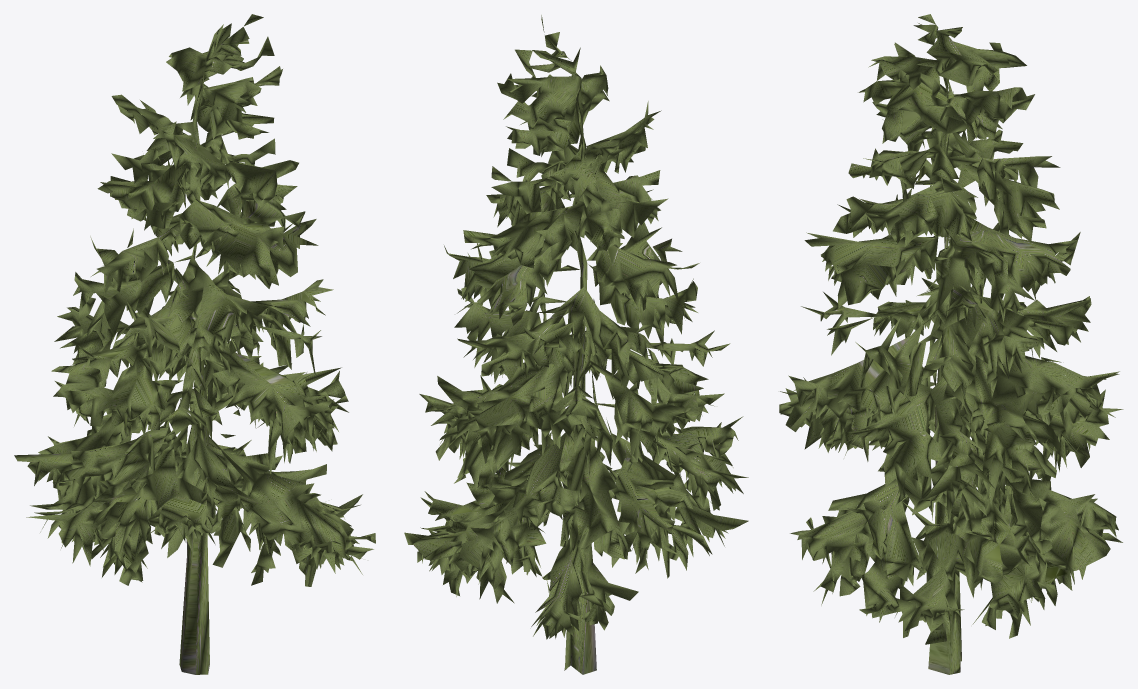
Rendered from abies-fabri-l1.glb.
The picture shows the model from 3 angles, left to right: view 1: azimuth 30°, elevation 25°; view 2: azimuth 150°, elevation 25°; view 3: azimuth 270°, elevation 25°; orthographic projection. The views are drawn at different scales.
Visible parts, largest first — view 1: geometry_0; view 2: geometry_0; view 3: geometry_0.
Boxes of the visible parts, box(x1,y1,x2,y2) form: geometry_0: box(14, 14, 375, 674); geometry_0: box(404, 15, 748, 674); geometry_0: box(779, 14, 1123, 674).
Bounding box in the file's own units: 4.22 × 7.98 × 3.68.
Materials: 1 (1 with a texture image).
